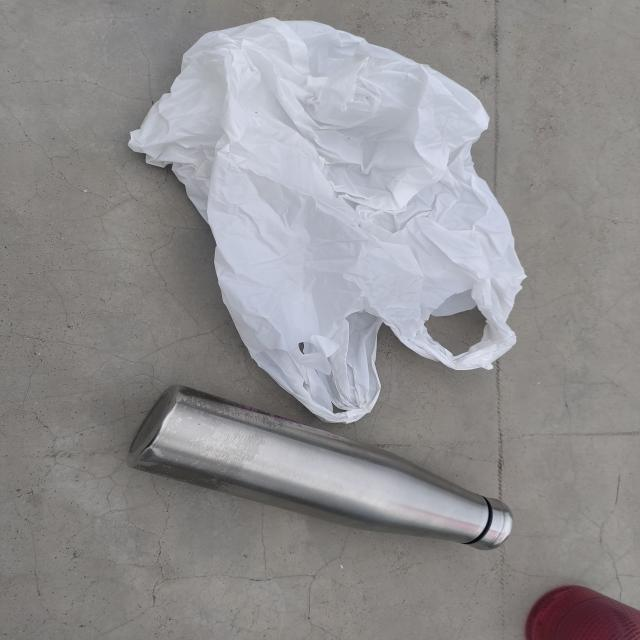dry: (96, 11, 615, 388), (129, 392, 580, 569)
